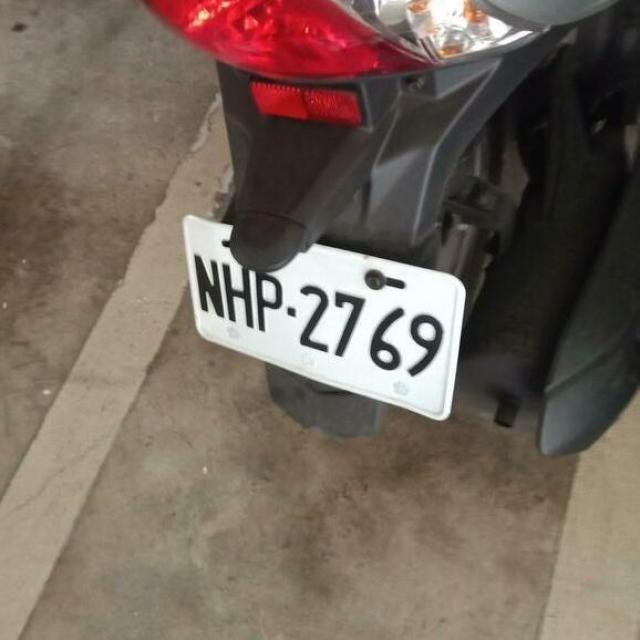W: (164, 207, 478, 424)
